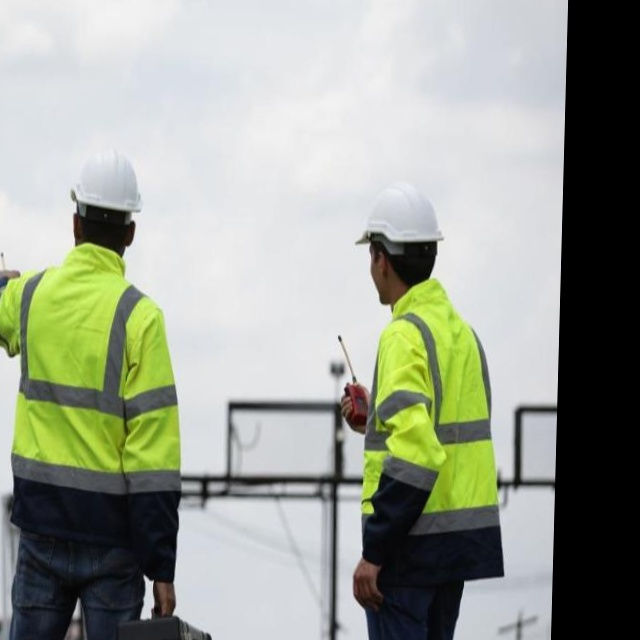Con_Casco: (352, 185, 447, 307), (67, 143, 142, 260)
Con_Chaleco: (8, 254, 178, 511), (359, 277, 500, 568)
